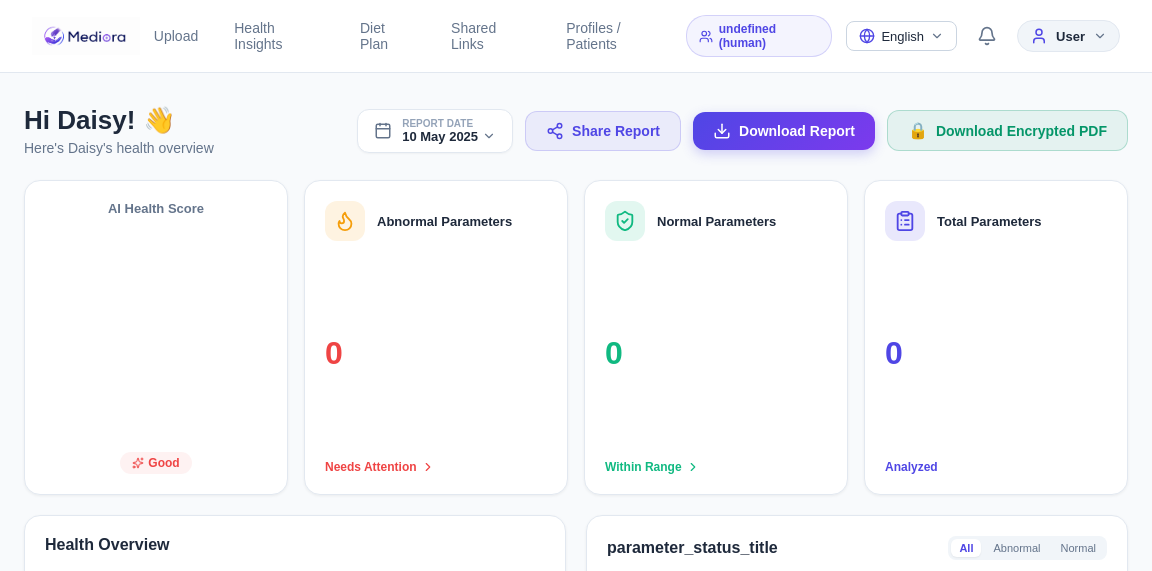
Password-Protected PDF Download Flow › 5. Dashboard UI Integration & Report ID Isolation › displays user-friendly error notification on download failure
Click the button "Download Report". click: [784, 130]
box: left=693, top=112, right=875, bottom=150
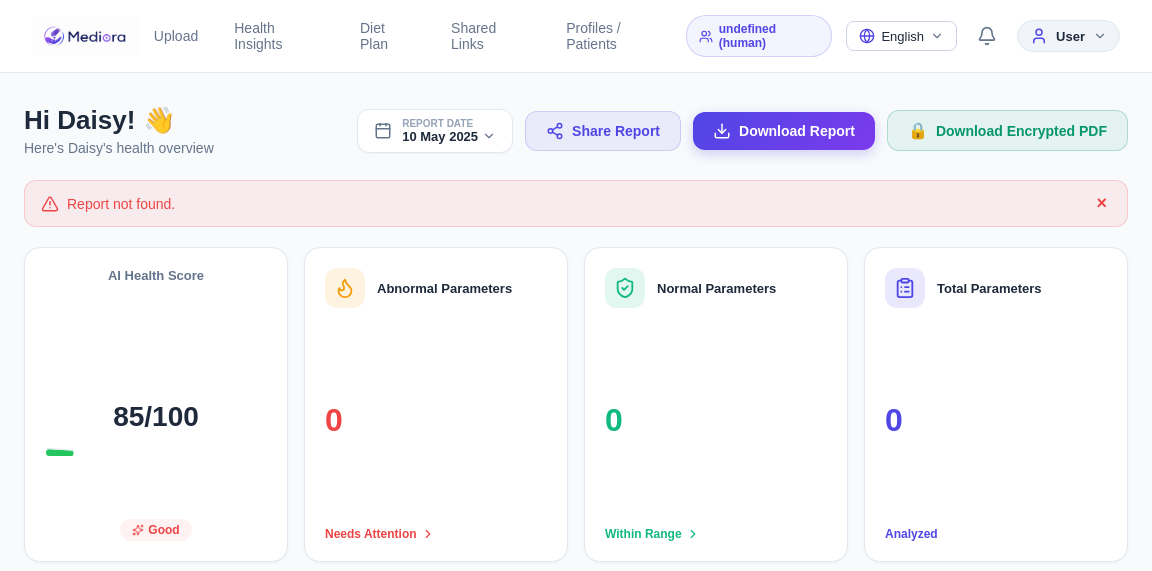
Now the text "Report not found." is shown, box left=67, top=196, right=175, bottom=212
